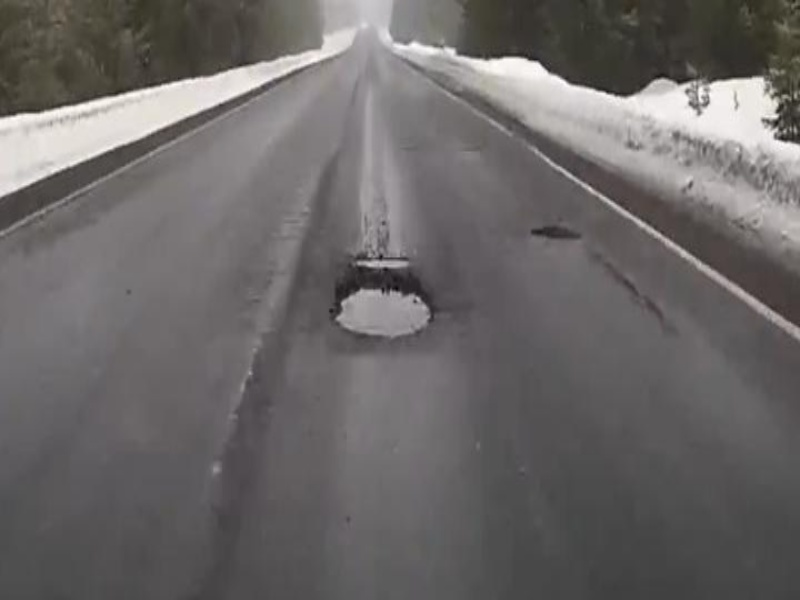pothole: (326, 272, 440, 343), (346, 255, 413, 271)
